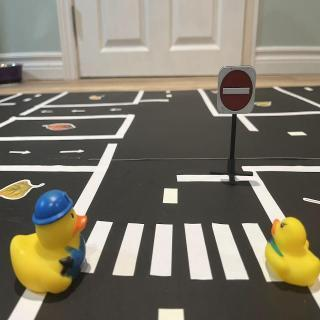duck_regular: (265, 218, 320, 290)
duck_specialty: (10, 191, 88, 297)
road_crosswalk: (84, 217, 291, 284)
road_oneway: (59, 146, 87, 158), (8, 149, 32, 159), (42, 110, 56, 117), (72, 108, 88, 114), (109, 108, 124, 114)
sign_noentry: (217, 67, 258, 115)
